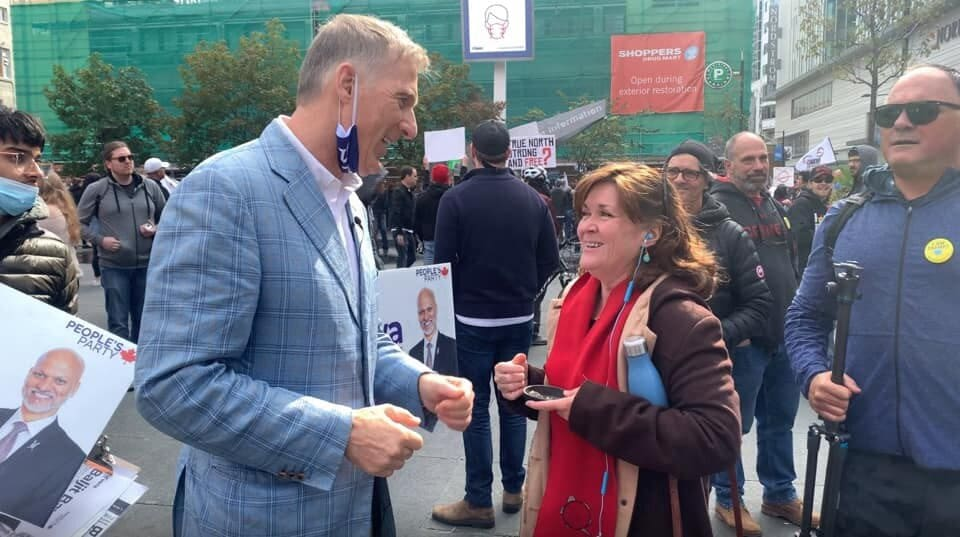with_incorrect_mask: (333, 64, 417, 174), (2, 141, 45, 215)
without_mask: (877, 70, 953, 167), (577, 191, 641, 275), (22, 349, 76, 413), (728, 136, 769, 190), (668, 155, 704, 202), (413, 286, 441, 334), (808, 165, 831, 197), (108, 150, 136, 174), (847, 147, 863, 172), (404, 167, 418, 184)
